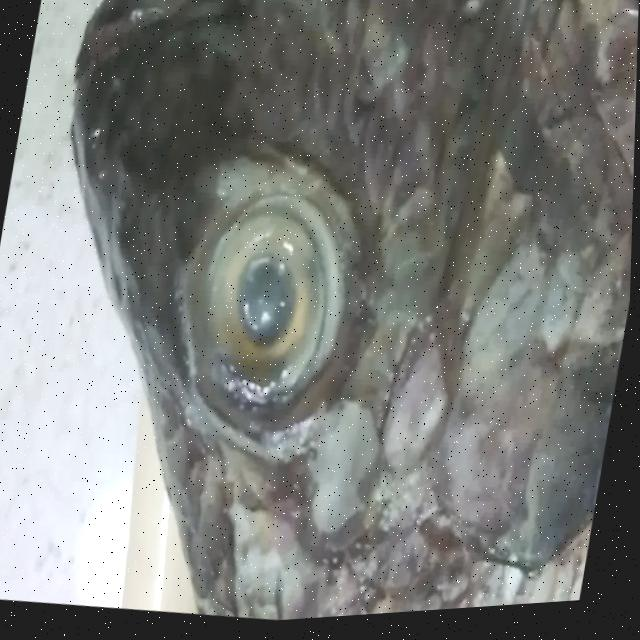Non-Fresh: (143, 132, 399, 474)
